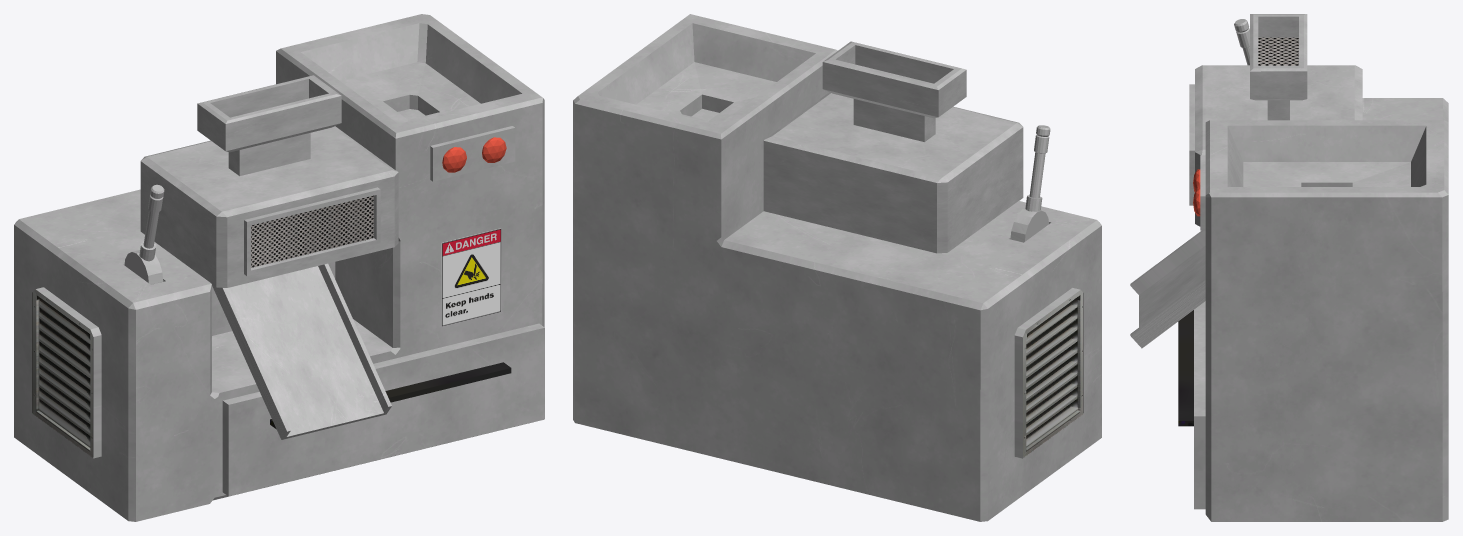
Rendered from ElectricButcheryTableObjectMesh.fbx.
3 views of the same model, side by side, from view 1: azimuth 30°, elevation 25°; view 2: azimuth 150°, elevation 25°; view 3: azimuth 270°, elevation 25° (orthographic).
Parts seen in each view (by area): view 1: Cube_003, Cube_004, Cube_005, Cube_006; view 2: Cube_003, Cube_004; view 3: Cube_003, Cube_004, Cube_005.
Boxes of the visible parts, x1=… form: Cube_003: x1=14, y1=14, x2=544, y2=521; Cube_004: x1=140, y1=75, x2=398, y2=287; Cube_005: x1=212, y1=263, x2=391, y2=439; Cube_006: x1=442, y1=137, x2=506, y2=172; Cube_003: x1=573, y1=14, x2=1101, y2=521; Cube_004: x1=763, y1=41, x2=1023, y2=253; Cube_003: x1=1178, y1=19, x2=1448, y2=521; Cube_004: x1=1189, y1=14, x2=1362, y2=226; Cube_005: x1=1130, y1=230, x2=1205, y2=348.
Bounding box in the file's own units: 209 × 168 × 134.
